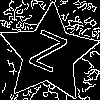Z: (23, 29, 69, 83)
